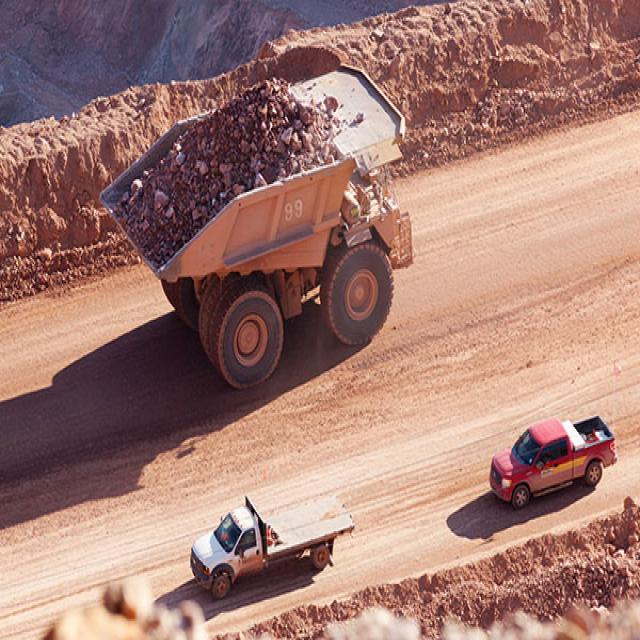dump_truck: (98, 58, 426, 366)
light_vehicle: (177, 474, 368, 596), (484, 403, 620, 512)
